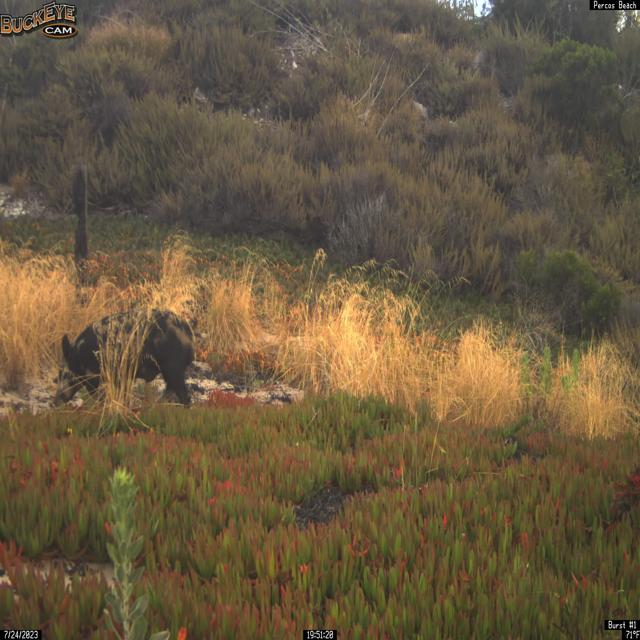pig: (52, 307, 205, 410)
